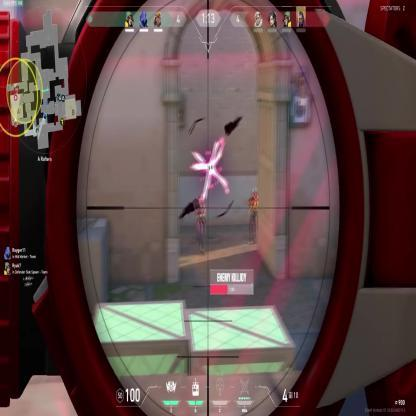enemy: (194, 194, 206, 254), (248, 188, 260, 246)
enemy_head: (198, 196, 204, 205), (254, 188, 258, 197)
